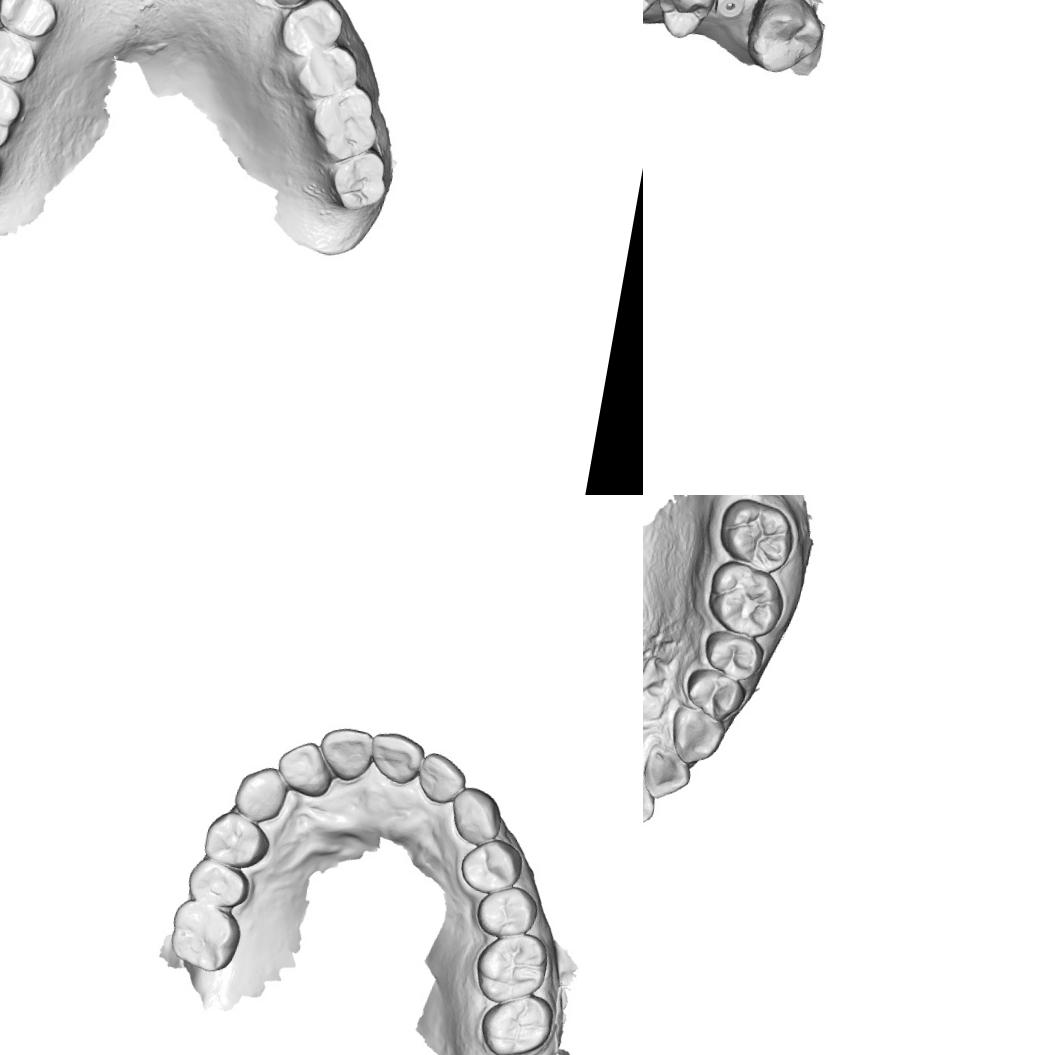canine: (664, 700, 730, 770), (226, 761, 292, 829), (444, 782, 508, 850)
implant: (713, 0, 749, 24)
incisor: (313, 720, 378, 786), (271, 736, 337, 800), (365, 725, 427, 788), (412, 748, 471, 808), (643, 740, 695, 805), (643, 754, 662, 832)
molar: (699, 556, 791, 644), (302, 76, 387, 170), (737, 0, 830, 81), (468, 924, 554, 1011), (711, 495, 800, 577), (164, 896, 245, 976), (474, 985, 559, 1055), (324, 143, 395, 218), (0, 67, 28, 154)
premolar: (288, 34, 365, 109), (199, 805, 275, 874), (454, 832, 526, 900), (274, 0, 349, 65), (679, 664, 749, 727), (472, 879, 540, 942), (698, 626, 768, 686), (183, 854, 254, 910), (649, 0, 719, 44), (0, 0, 62, 44), (0, 23, 42, 86)
